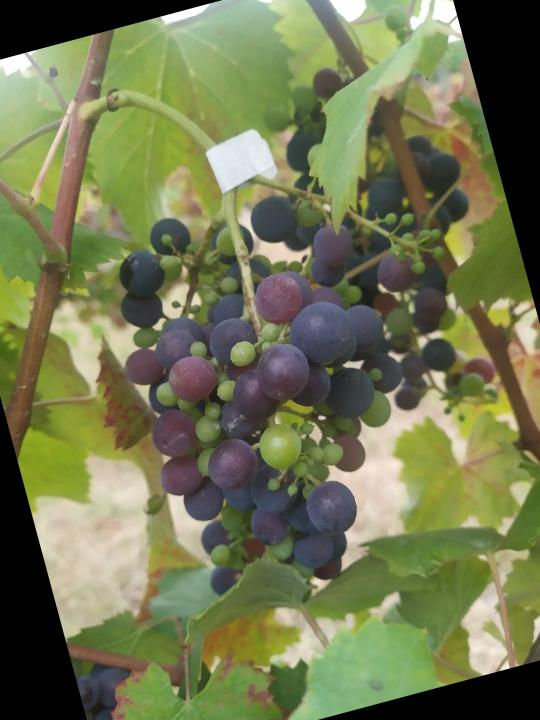grape: (81, 160, 451, 621)
